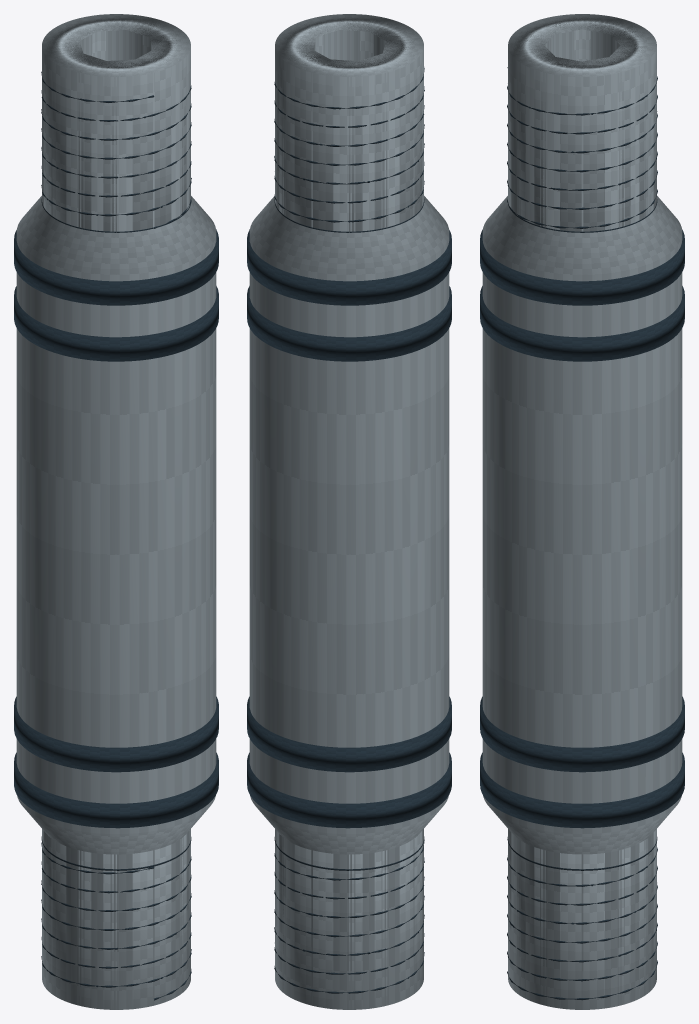
File: float-sub.glb
The picture shows the model from 3 angles, left to right: view 1: azimuth 30°, elevation 25°; view 2: azimuth 150°, elevation 25°; view 3: azimuth 270°, elevation 25°; orthographic projection.
Parts seen in each view (by area): view 1: tool-housing (×3), uphole-connection (×4), service-features (×2), downhole-connection (×3); view 2: tool-housing (×3), uphole-connection (×4), service-features (×2), downhole-connection (×3); view 3: tool-housing (×3), service-features (×2), uphole-connection (×4), downhole-connection (×3).
Boxes of the visible parts, left/top/right/bottom form: tool-housing (×3): left=16, top=14, right=216, bottom=1009; uphole-connection (×4): left=41, top=14, right=191, bottom=232; service-features (×2): left=14, top=229, right=218, bottom=828; downhole-connection (×3): left=41, top=829, right=191, bottom=1009; tool-housing (×3): left=249, top=14, right=449, bottom=1009; uphole-connection (×4): left=274, top=14, right=424, bottom=232; service-features (×2): left=247, top=229, right=451, bottom=828; downhole-connection (×3): left=274, top=829, right=424, bottom=1009; tool-housing (×3): left=482, top=14, right=682, bottom=1009; service-features (×2): left=480, top=229, right=684, bottom=828; uphole-connection (×4): left=507, top=14, right=657, bottom=232; downhole-connection (×3): left=507, top=829, right=657, bottom=1009.
Size of the model in its own units: 0.1194 by 0.6 by 0.1194.
3 materials, 3 textured.
